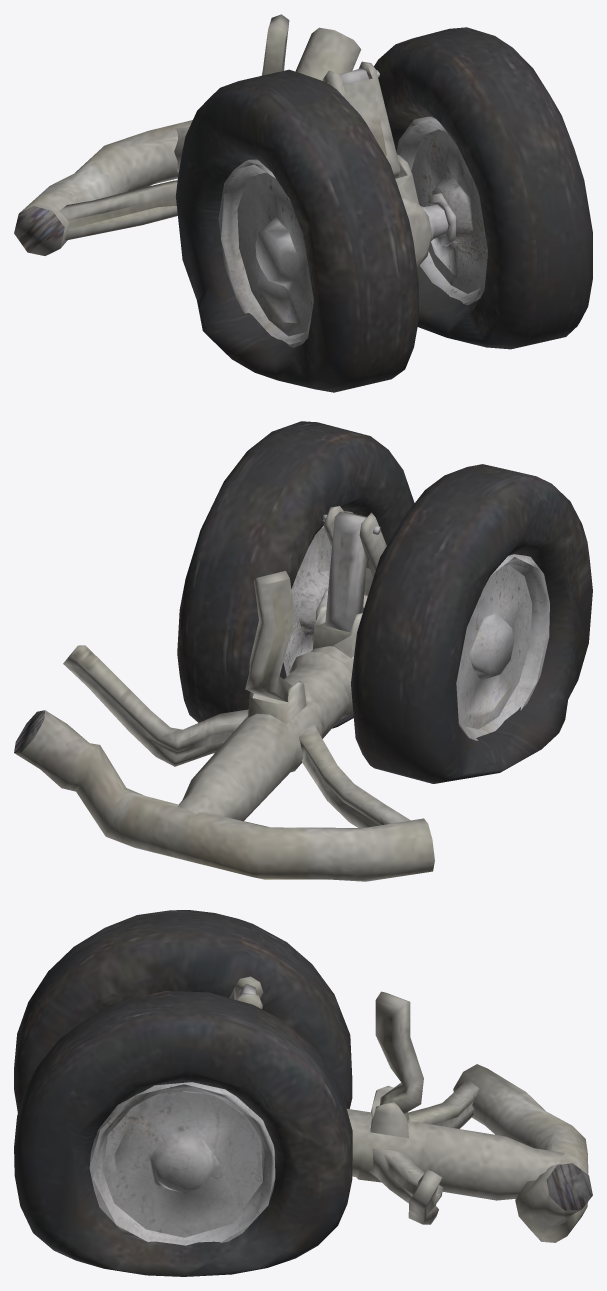
The model's file is cargo_wreck_wheel.glb.
3 renders of one model, top to bottom at view 1: azimuth 30°, elevation 25°; view 2: azimuth 150°, elevation 25°; view 3: azimuth 270°, elevation 25°, orthographic. The views are drawn at different scales.
Visible parts, largest first — view 1: KB3D_WRK_PropAirplaneWheel_A_Main; view 2: KB3D_WRK_PropAirplaneWheel_A_Main; view 3: KB3D_WRK_PropAirplaneWheel_A_Main.
Part boxes in pixels (x1,y1,x2,y2): KB3D_WRK_PropAirplaneWheel_A_Main: (14, 14, 592, 392); KB3D_WRK_PropAirplaneWheel_A_Main: (14, 421, 592, 881); KB3D_WRK_PropAirplaneWheel_A_Main: (14, 910, 592, 1276).
Bounding box in the file's own units: 1.08 × 0.6565 × 1.4.
4 materials, 4 textured.
